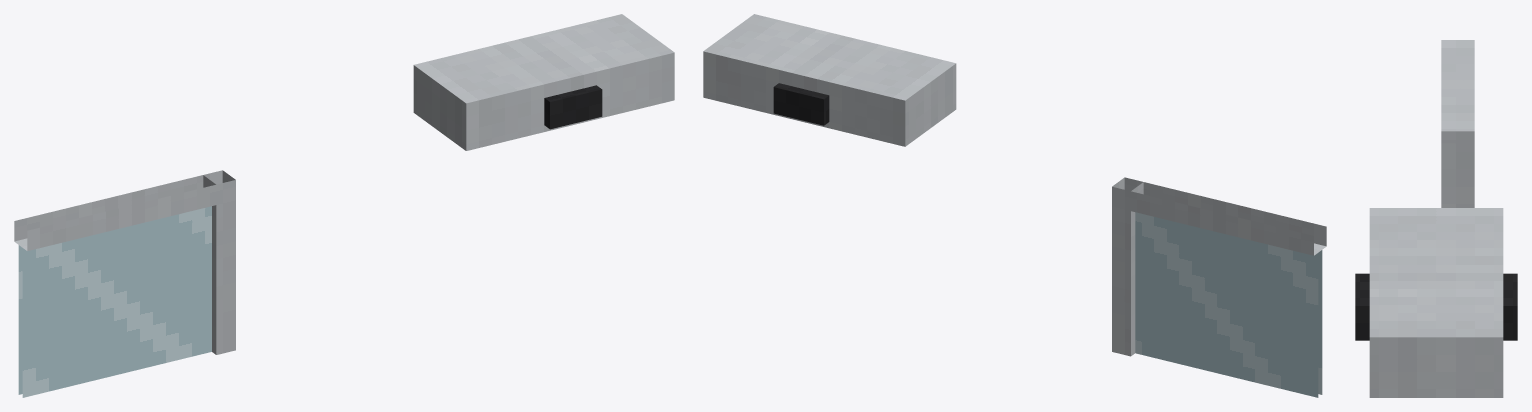
Rendered from auto_door_wide_slider_clear_c1_upper_left_open.obj.
3 views of the same model, side by side, from view 1: azimuth 30°, elevation 25°; view 2: azimuth 150°, elevation 25°; view 3: azimuth 270°, elevation 25° (orthographic). The views are drawn at different scales.
Visible parts, largest first — view 1: auto_door_wide_slider_clear_c1_upper_left_open; view 2: auto_door_wide_slider_clear_c1_upper_left_open; view 3: auto_door_wide_slider_clear_c1_upper_left_open.
Boxes of the visible parts, left/top/right/bottom form: auto_door_wide_slider_clear_c1_upper_left_open: left=14, top=14, right=674, bottom=397; auto_door_wide_slider_clear_c1_upper_left_open: left=703, top=14, right=1326, bottom=397; auto_door_wide_slider_clear_c1_upper_left_open: left=1355, top=40, right=1517, bottom=397.
Bounding box in the file's own units: 2.97 × 1 × 0.5312.
